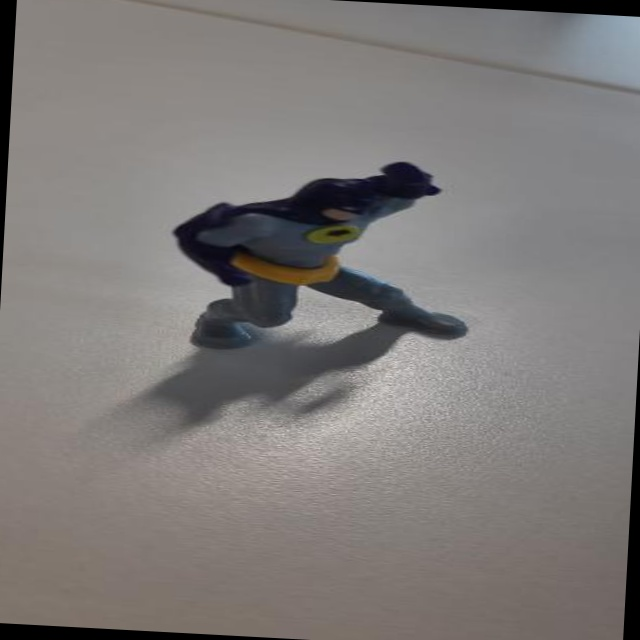Batman: (140, 143, 500, 375)
